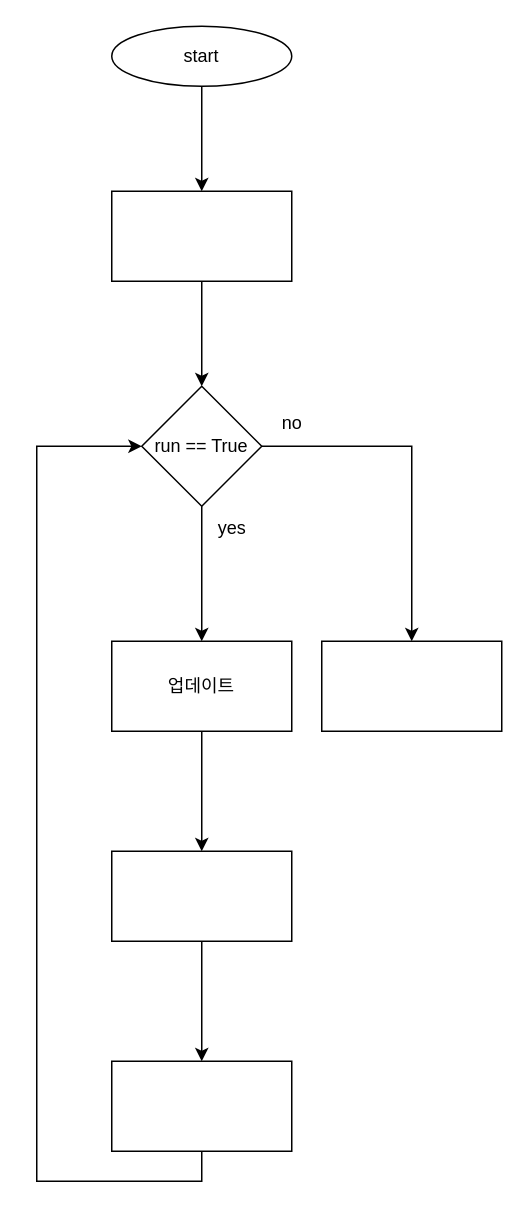
The diagram is 528 pixels wide and 1220 high, and some of its shapes have lost their labels. Here are the shapes that lost their labels. From the top down, the box of each, then its label:
(110, 190, 292, 281): pygame초기화
(320, 640, 502, 731): 게임 종료
